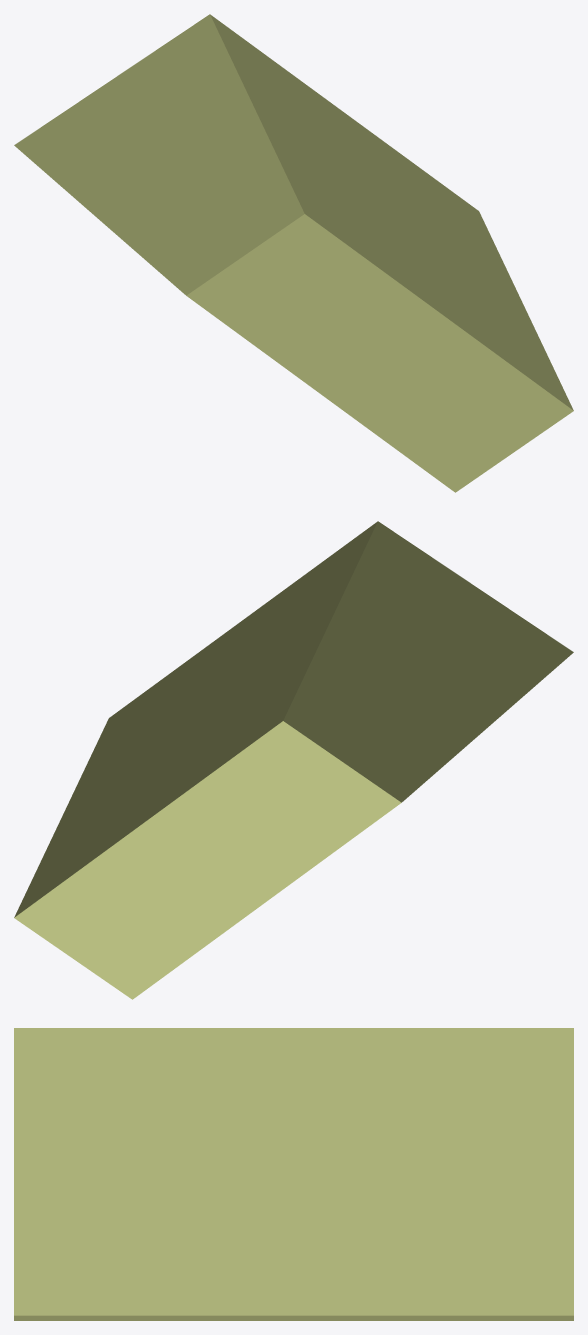
3 renders of one model, top to bottom at view 1: azimuth 30°, elevation 25°; view 2: azimuth 150°, elevation 25°; view 3: azimuth 270°, elevation 25°, orthographic. The views are drawn at different scales.
Parts seen in each view (by area): view 1: 0_1_2_3_0_0_0_3_3_2_3; view 2: 0_1_2_3_0_0_0_3_3_2_3; view 3: 0_1_2_3_0_0_0_3_3_2_3.
Part boxes in pixels (box(x1,y1,x2,y2)): 0_1_2_3_0_0_0_3_3_2_3: box(14, 14, 573, 492); 0_1_2_3_0_0_0_3_3_2_3: box(14, 521, 573, 999); 0_1_2_3_0_0_0_3_3_2_3: box(14, 1028, 573, 1320).
Bounding box in the file's own units: 5.61 × 5.09 × 9.
